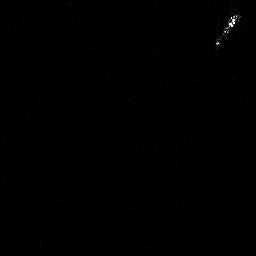ship: (212, 11, 241, 47)
